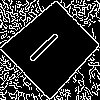I: (26, 23, 68, 64)
